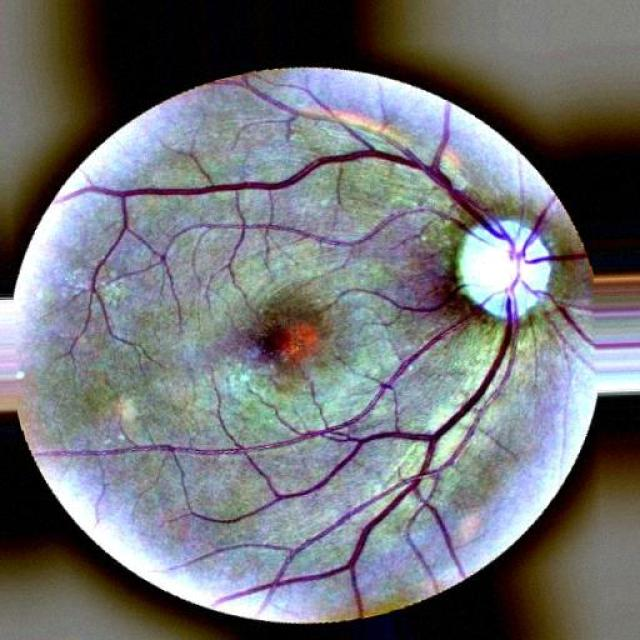Macula: (235, 299, 333, 383)
Nerves: (277, 309, 518, 587), (115, 153, 502, 234), (339, 282, 471, 314)
Optic Disk: (459, 216, 553, 315)
